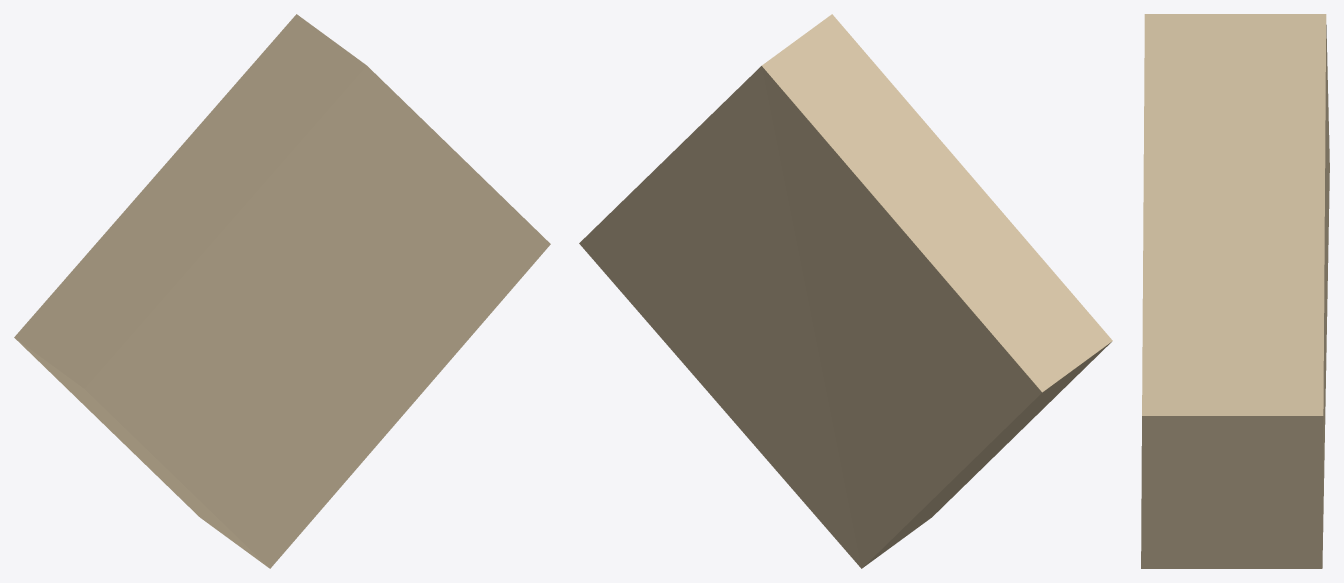
The picture shows the model from 3 angles, left to right: view 1: azimuth 30°, elevation 25°; view 2: azimuth 150°, elevation 25°; view 3: azimuth 270°, elevation 25°; orthographic projection. The views are drawn at different scales.
Visible parts, largest first — view 1: urn:npust:smart-agriculture-management-platform:building:edu; view 2: urn:npust:smart-agriculture-management-platform:building:edu; view 3: urn:npust:smart-agriculture-management-platform:building:edu.
Boxes of the visible parts, x1=… form: urn:npust:smart-agriculture-management-platform:building:edu: x1=14, y1=14, x2=550, y2=568; urn:npust:smart-agriculture-management-platform:building:edu: x1=579, y1=14, x2=1112, y2=568; urn:npust:smart-agriculture-management-platform:building:edu: x1=1141, y1=14, x2=1329, y2=568.
Bounding box in the file's own units: 17.13 × 16.88 × 4.68.
